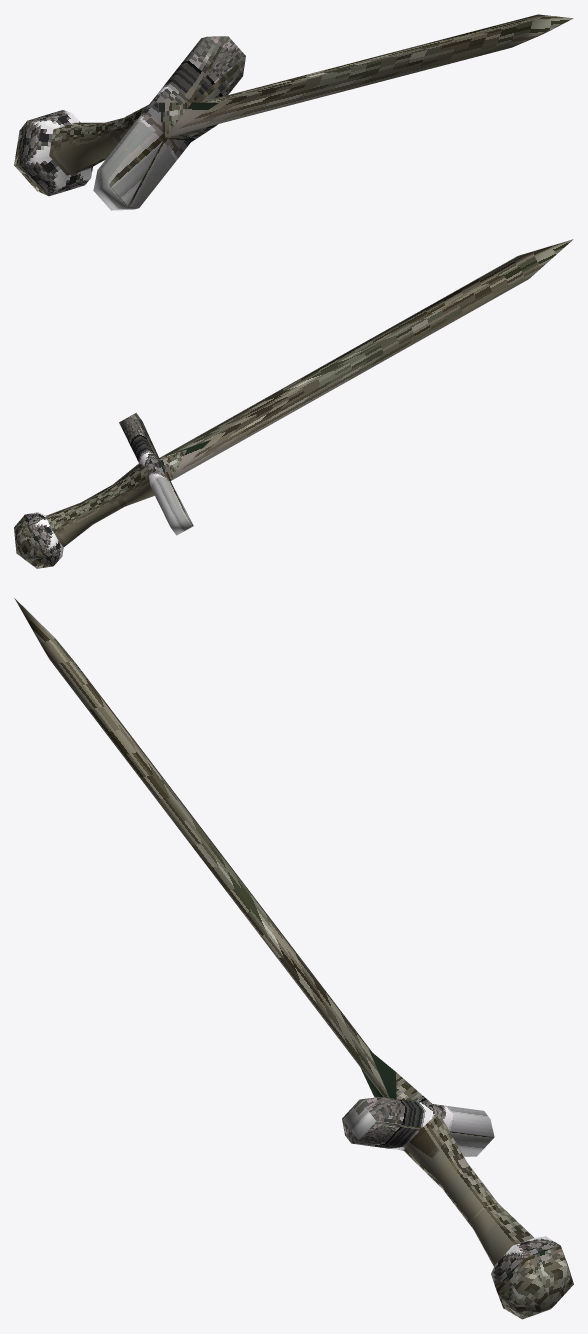
The model's file is CH11_CINE05_SAVECARWINFAILURE_SWORD.obj.
3 views of the same model, one above another, from view 1: azimuth 90°, elevation 25°; view 2: azimuth 150°, elevation 25°; view 3: azimuth 270°, elevation 25° (orthographic). The views are drawn at different scales.
Visible parts, largest first — view 1: Mesh01; view 2: Mesh01; view 3: Mesh01.
Boxes of the visible parts, box(x1,y1,x2,y2) form: Mesh01: box(14, 14, 573, 210); Mesh01: box(14, 239, 573, 568); Mesh01: box(14, 598, 573, 1319).
Size of the model in its own units: 101 by 72.35 by 82.87.
